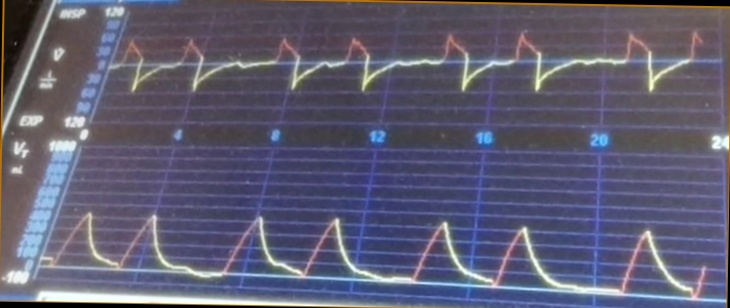Ineffective_effort Flow: (117, 20, 708, 115)
Ineffective_effort Volume: (39, 207, 709, 298)
